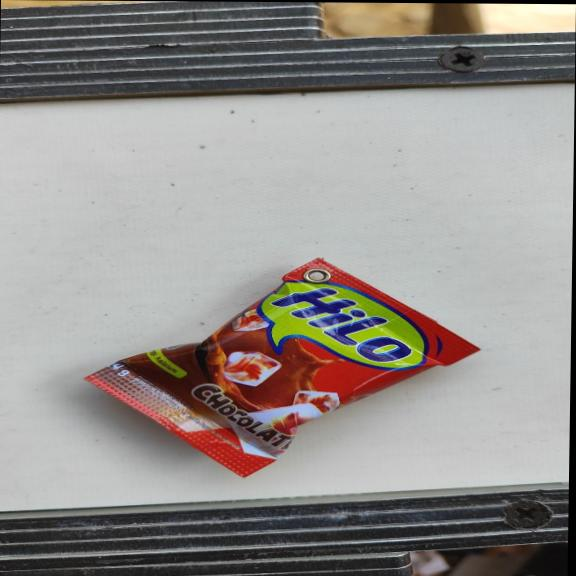Plastik: (80, 255, 481, 480)
